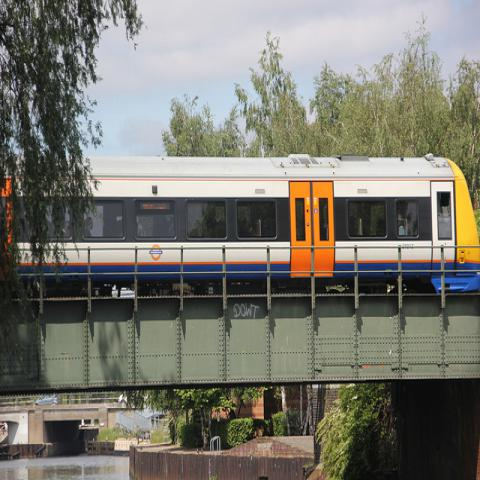car: (118, 390, 151, 404), (33, 395, 60, 404)
